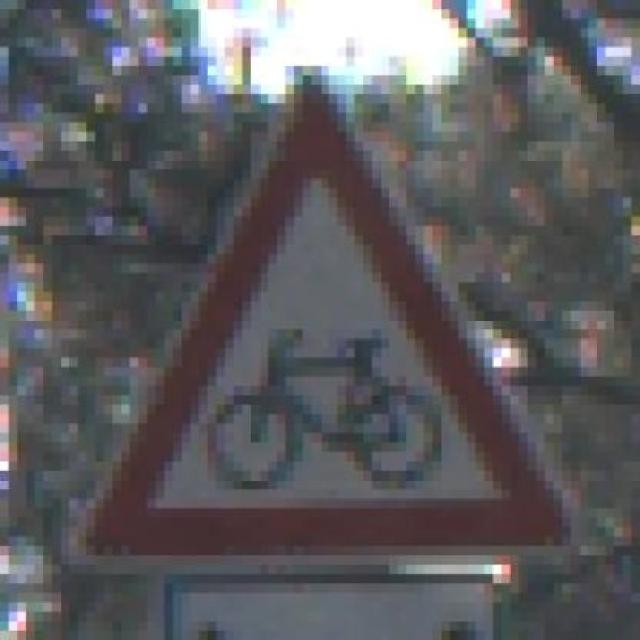CYCLE ROUTE AHEAD WARNING: (51, 76, 588, 556)
